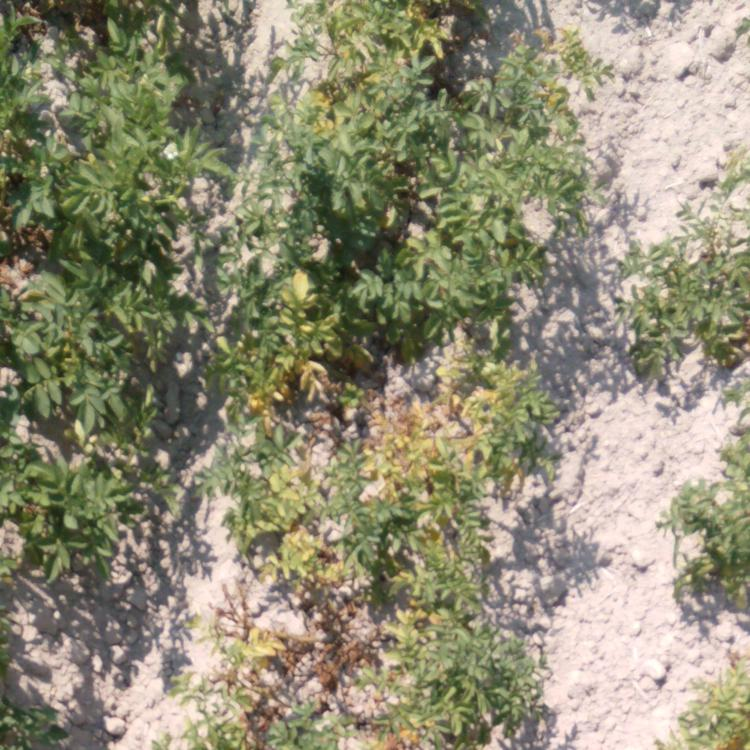healthy: (5, 1, 227, 246), (1, 250, 160, 461), (619, 233, 750, 369), (1, 472, 143, 592), (677, 411, 750, 608), (1, 641, 60, 745), (693, 152, 748, 233)
stressed: (258, 65, 455, 219), (472, 32, 602, 221), (212, 439, 346, 621), (180, 610, 357, 746), (364, 604, 528, 746), (348, 227, 530, 354), (365, 353, 547, 478), (203, 248, 329, 421), (358, 492, 471, 602), (326, 1, 466, 62), (662, 658, 750, 745)
